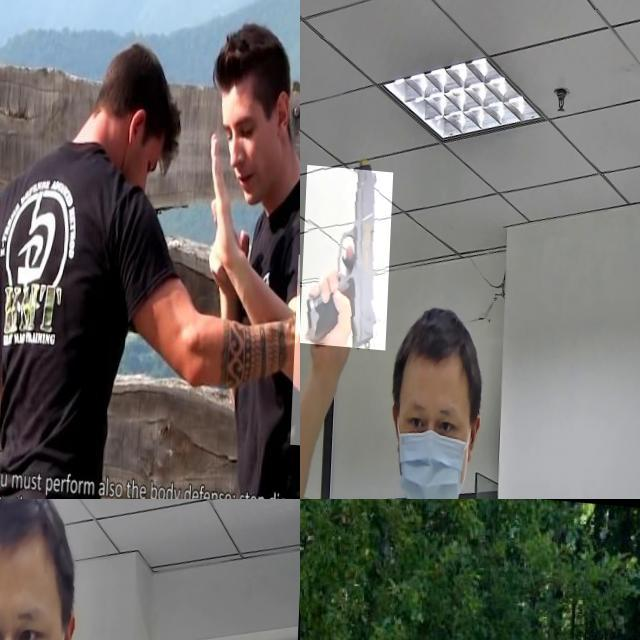gun-knife-thesis - v11 Yolov5 augmented: (302, 164, 396, 348)
